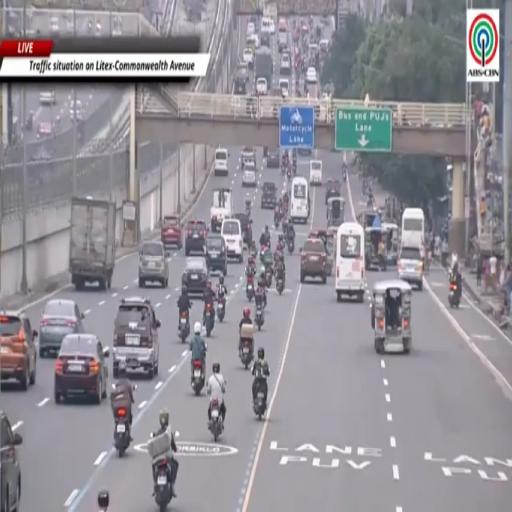bus: (290, 176, 309, 223)
car: (54, 333, 109, 404), (113, 297, 160, 378), (0, 311, 38, 390), (39, 299, 84, 358), (0, 410, 22, 511), (139, 240, 169, 287), (308, 228, 336, 275), (300, 238, 327, 283), (397, 247, 423, 290), (182, 257, 209, 296), (221, 218, 243, 262), (205, 234, 227, 275), (185, 219, 207, 255), (161, 216, 182, 249), (233, 213, 252, 246), (261, 182, 276, 209), (214, 148, 229, 175), (325, 179, 341, 204), (242, 163, 257, 186), (240, 147, 255, 169), (39, 88, 56, 106), (36, 122, 54, 138), (280, 53, 291, 76), (261, 18, 275, 36), (70, 101, 83, 120), (267, 149, 280, 168), (243, 47, 254, 69), (246, 34, 260, 51), (279, 78, 289, 97), (306, 67, 317, 84), (256, 77, 267, 94), (50, 16, 59, 35), (249, 14, 258, 33), (261, 32, 270, 47), (246, 23, 255, 37), (298, 148, 311, 156)
motorcycle: (154, 459, 172, 510), (114, 408, 130, 457), (208, 398, 224, 441), (191, 360, 205, 395), (240, 340, 253, 369), (254, 389, 266, 420), (205, 302, 214, 337), (179, 312, 189, 343), (449, 283, 460, 308), (217, 295, 226, 322), (255, 303, 264, 330), (246, 276, 254, 301), (265, 267, 272, 287), (276, 278, 284, 295), (288, 238, 294, 253), (249, 247, 257, 258), (274, 213, 279, 229), (246, 203, 251, 216), (283, 200, 288, 213), (287, 167, 291, 180), (292, 165, 296, 175), (343, 169, 346, 182)
truck: (69, 197, 116, 290), (211, 188, 233, 232), (255, 47, 273, 90)
